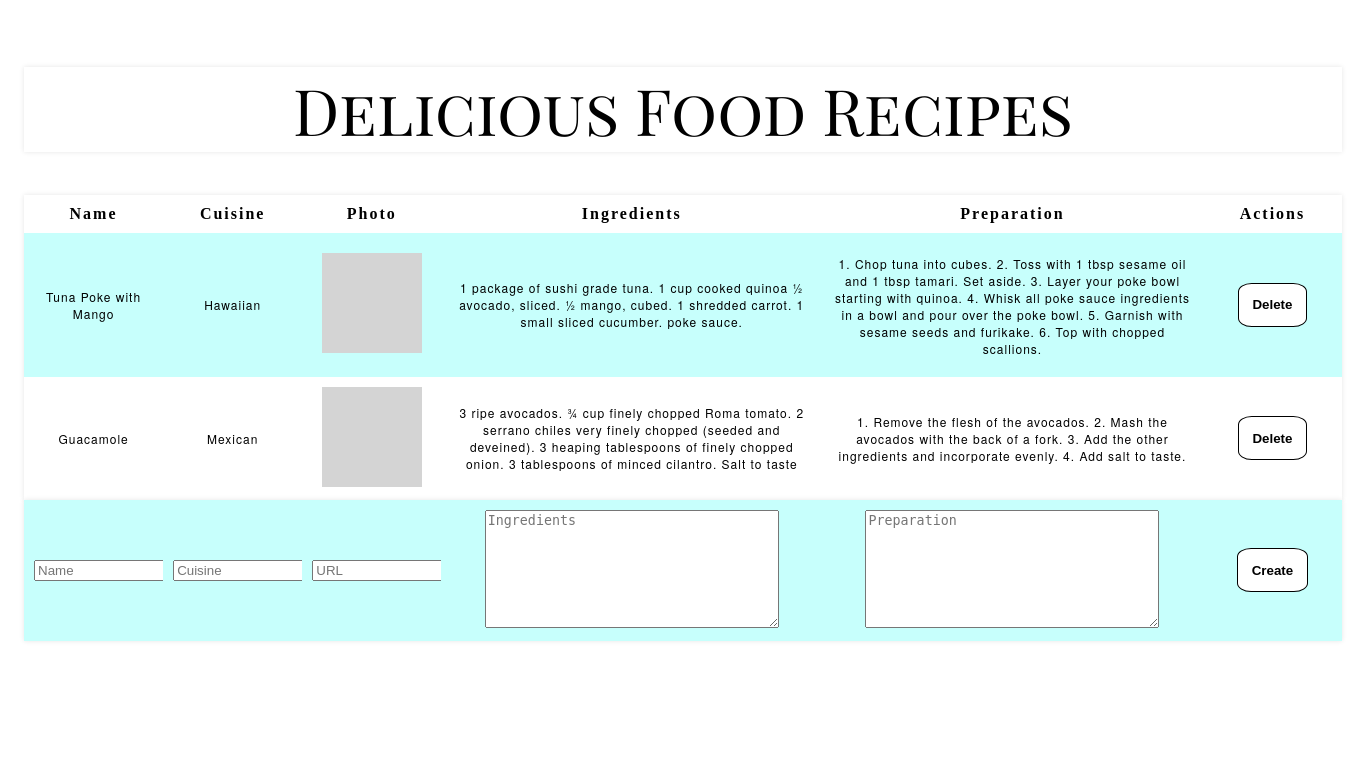
Test case: App › can create a new recipe that displays › the name
Type "Just an avocado" into the field named "name".
click(126, 570); type("Just an avocado")  # box [34, 560, 219, 581]
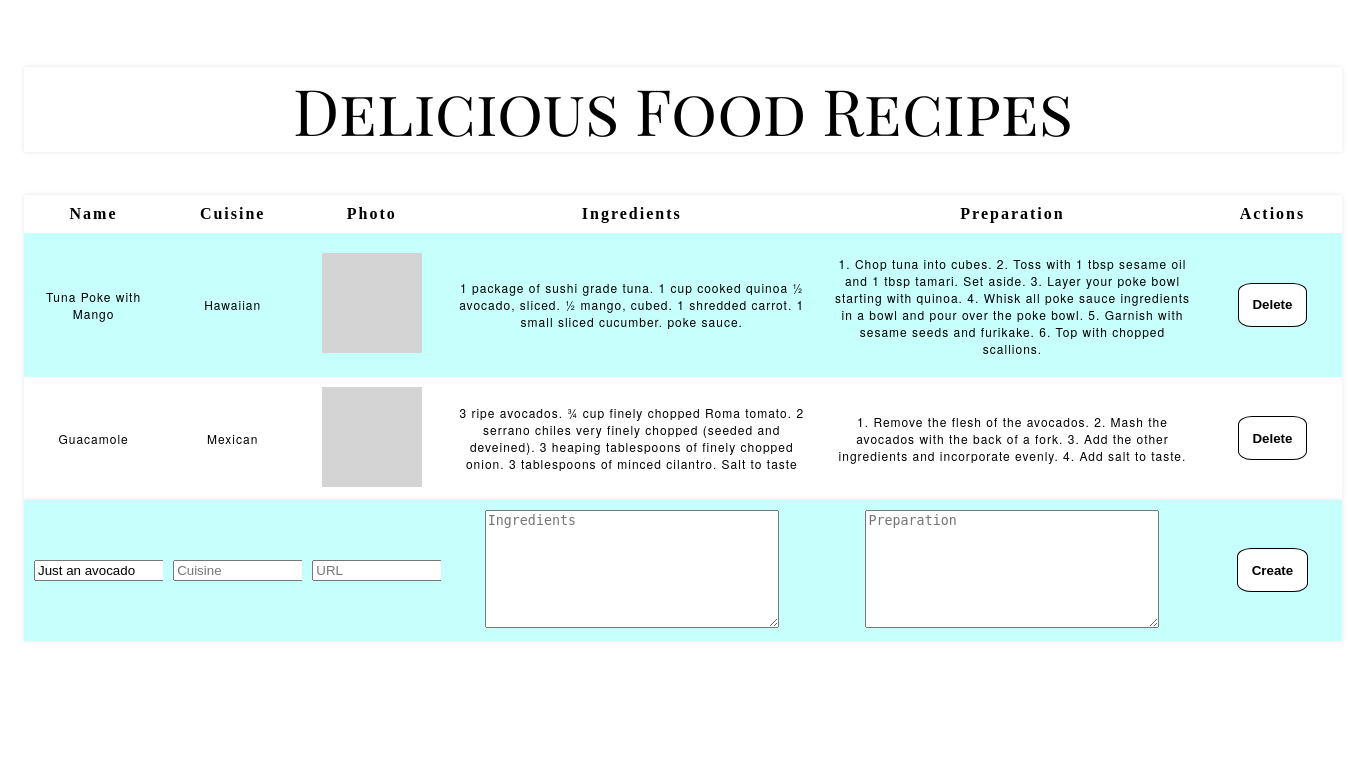
Type "Raw Food" into the field named "cuisine".
click(266, 570); type("Raw Food")  # box [173, 560, 358, 581]
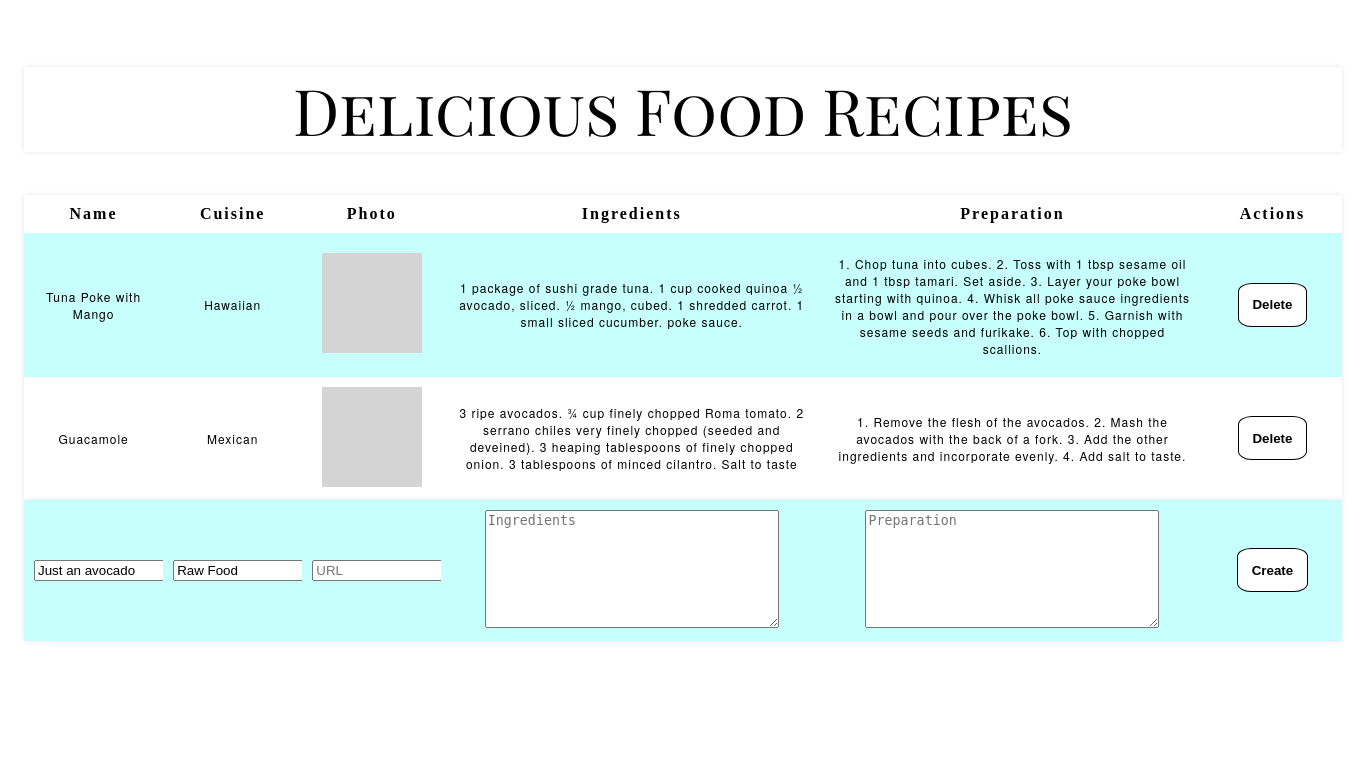
Type "http://www.nopicavailable.com" into the field named "photo".
click(405, 570); type("http://www.nopicavailable.com")  # box [312, 560, 497, 581]
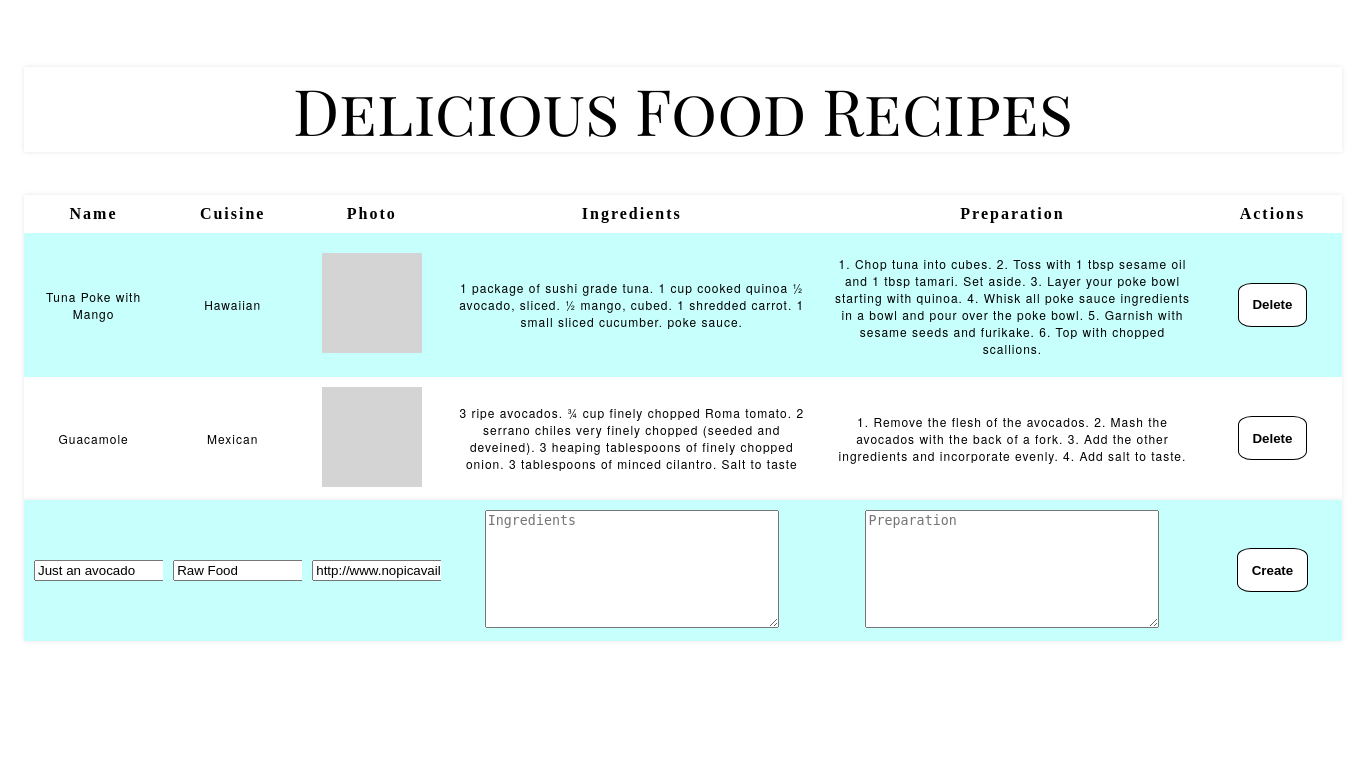
Type "1 avocado" into the text box named "ingredients".
click(632, 569); type("1 avocado")  # box [485, 510, 779, 628]
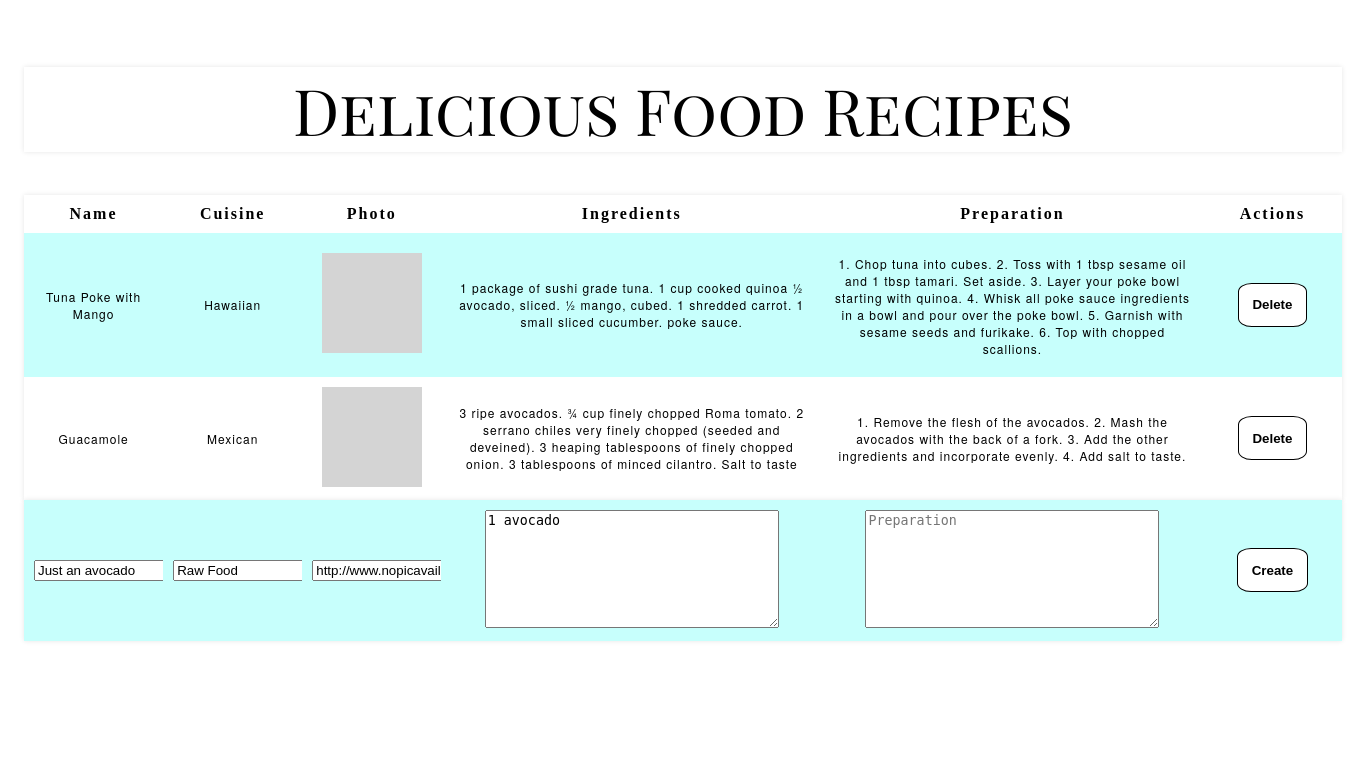
Type "peel the avocado" into the text box named "preparation".
click(1012, 569); type("peel the avocado")  # box [866, 510, 1160, 628]
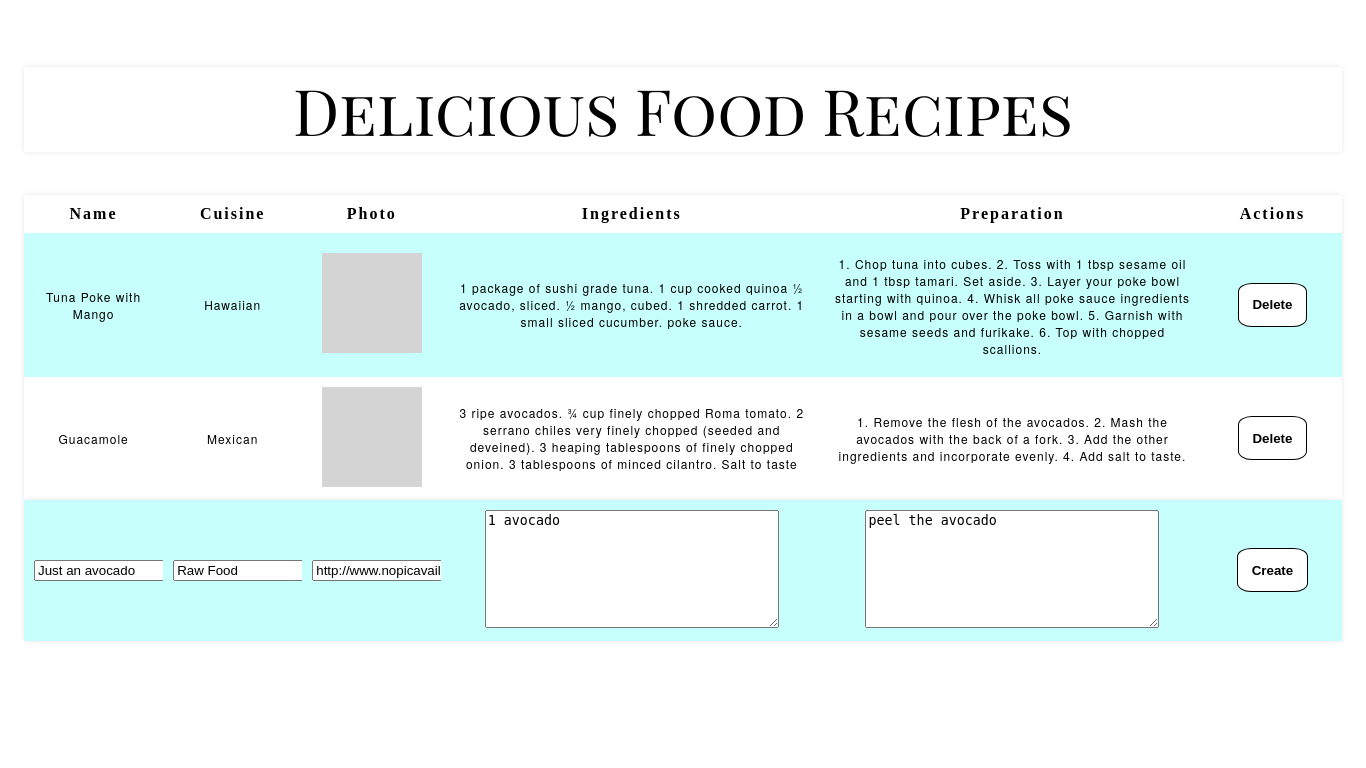
Click the submit button.
click(1272, 570)  # box [1237, 548, 1308, 592]
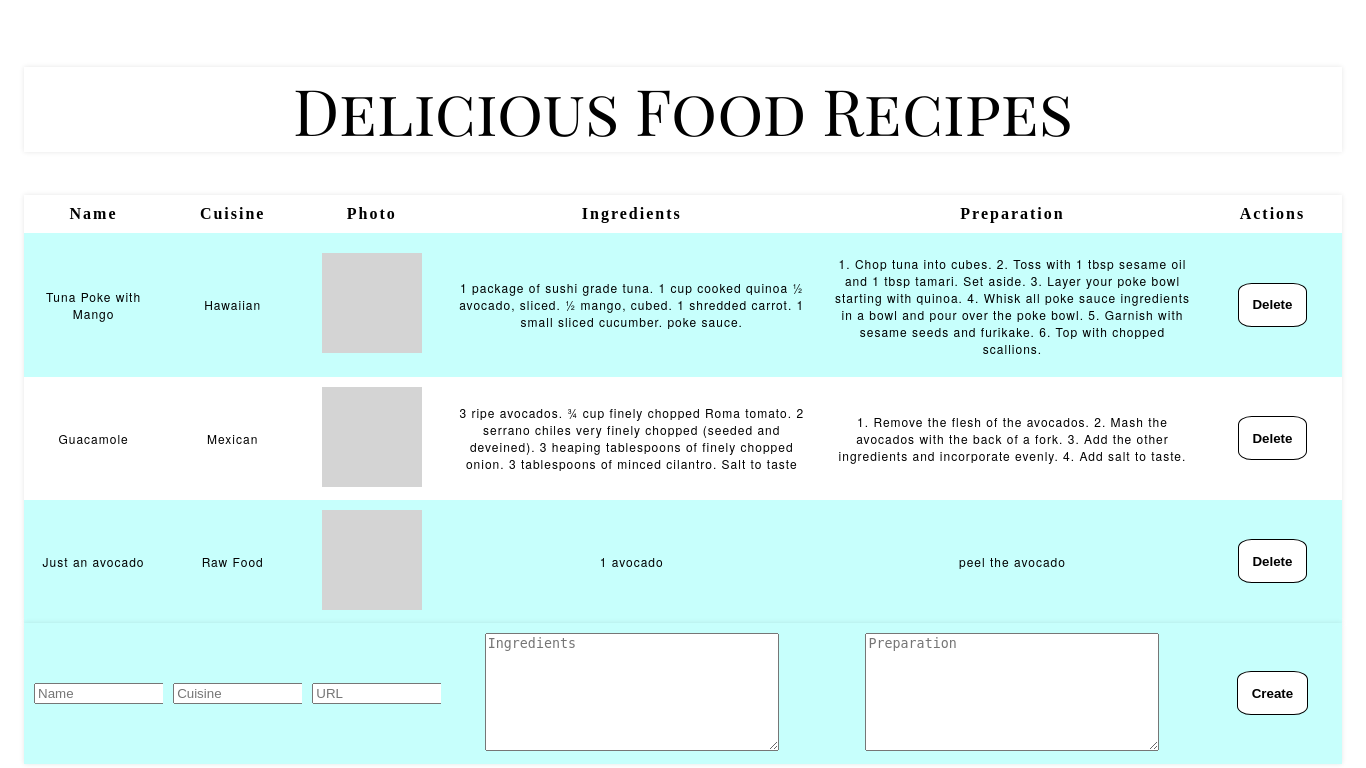
Now the text "Just an avocado" is shown, box [24, 500, 163, 623]
